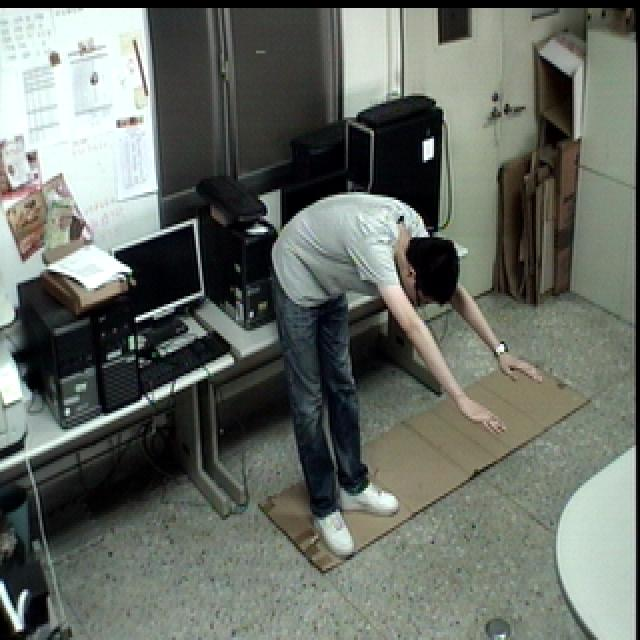bend: (266, 182, 548, 557)
